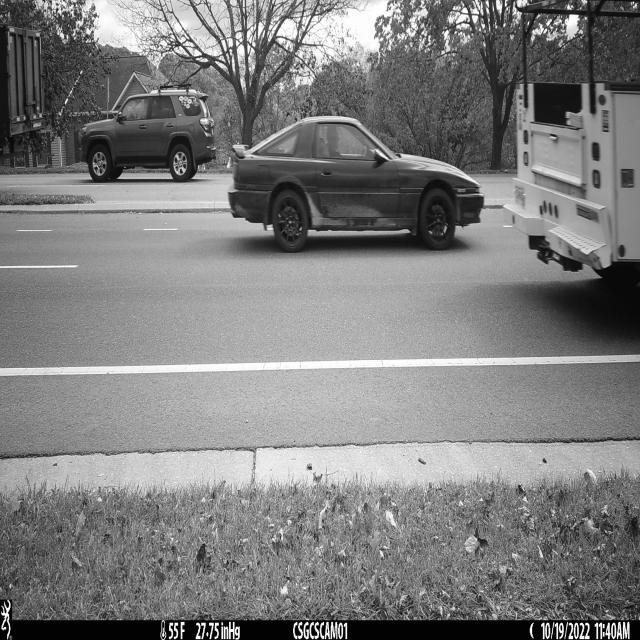SUV: (75, 83, 216, 182)
Sedan: (228, 116, 486, 254)
